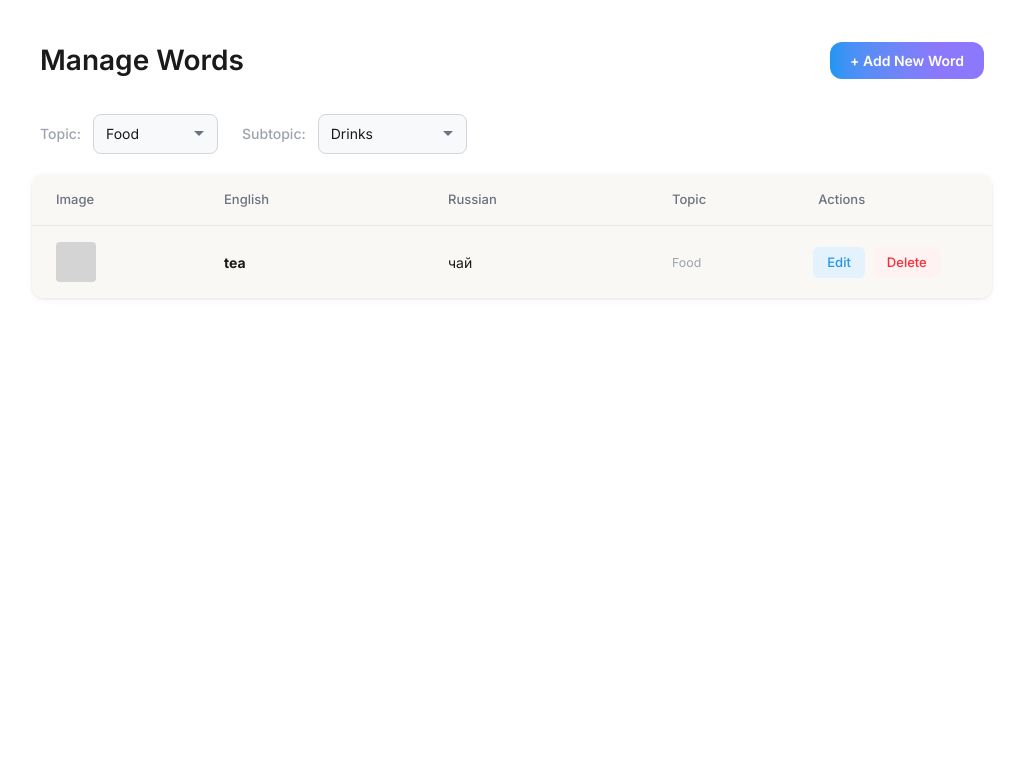
Test: AdminWords › opens the delete modal for a word (uses English as item name)
Expected: the text "tea" is shown, [224,254,246,271]
What coordinates should you click on to do the following:
click the button "Delete"
I would click on:
 (907, 262)
Its box is [873,247,941,278].
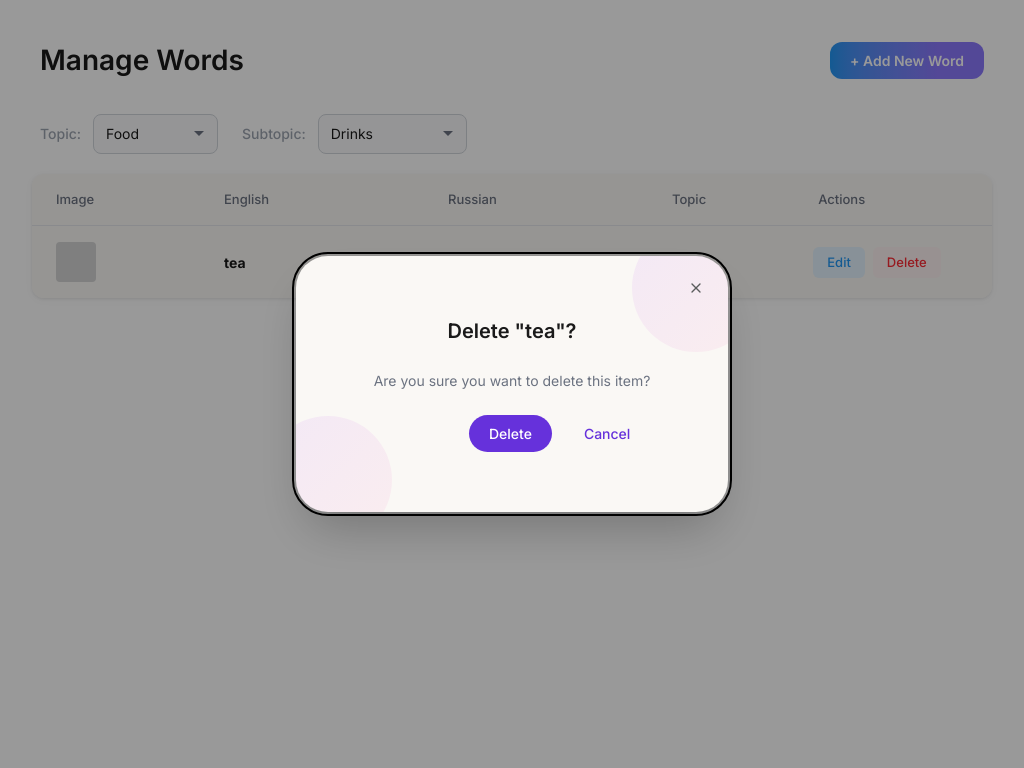
Expected: the heading "Delete \"tea\"?" is shown, [448,316,576,346]
